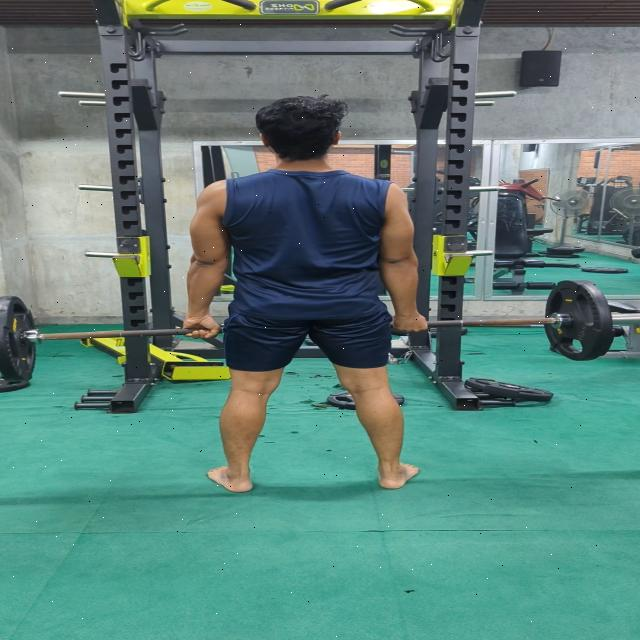Normal_Deadlifts: (178, 92, 432, 494)
